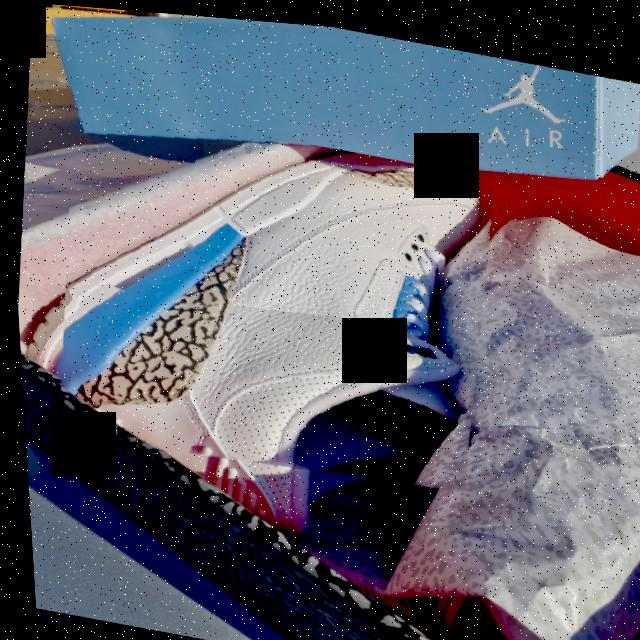shoe: (37, 97, 510, 508)
